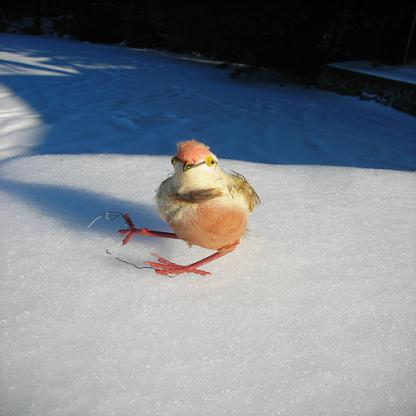bird: (114, 137, 261, 277)
